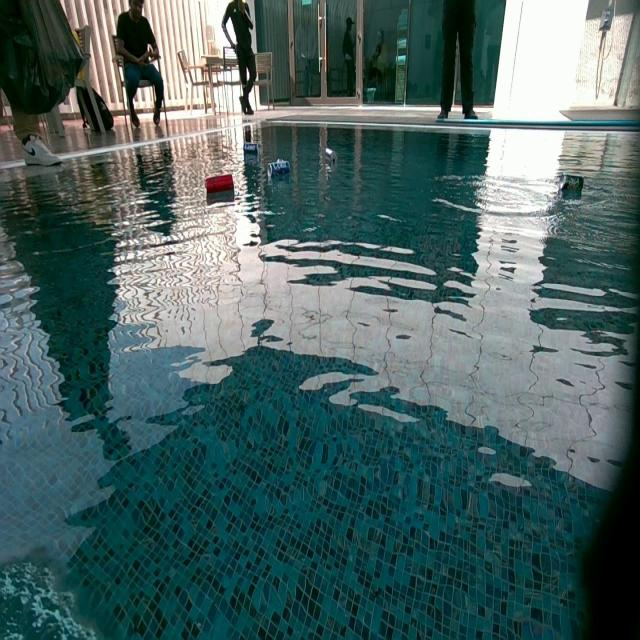Cans: (558, 172, 584, 194), (205, 176, 233, 194), (268, 160, 292, 179), (324, 148, 339, 169), (242, 142, 258, 155)
